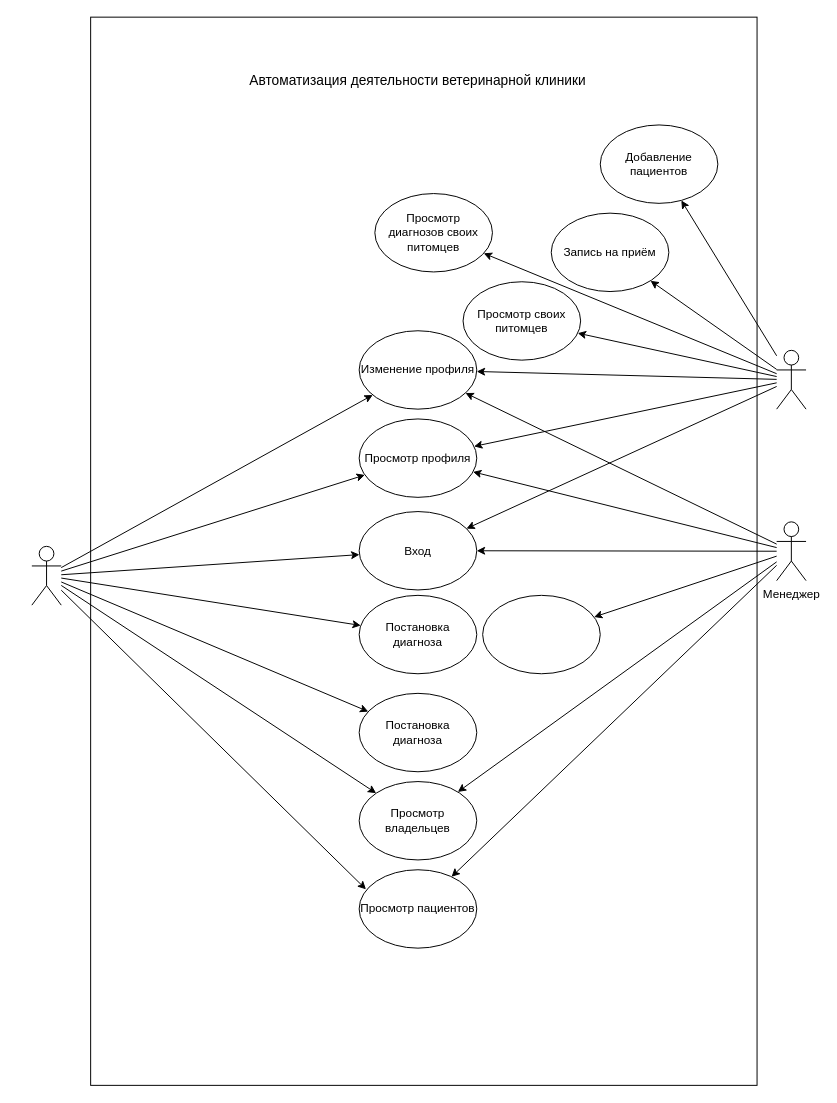
Some shapes in this 837 by 1103 pixel diagram are drawn without their labels. The shapes that lost their labels are listed below. From the top down, each one's centre as x and y in pixels, then its label:
the point at 791,379: Клиент
the point at 46,575: Ветеринар
the point at 541,634: Добавление ветеринаров
